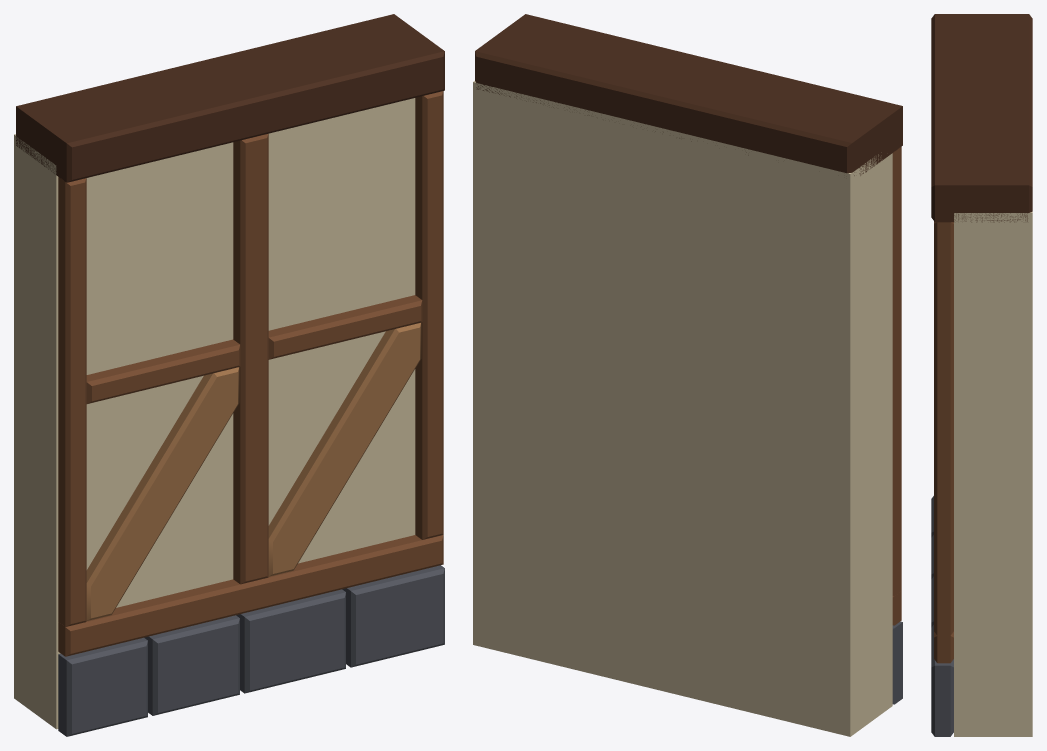
Rendered from WallStraight_04.glb.
The picture shows the model from 3 angles, left to right: view 1: azimuth 30°, elevation 25°; view 2: azimuth 150°, elevation 25°; view 3: azimuth 270°, elevation 25°; orthographic projection. The views are drawn at different scales.
Visible parts, largest first — view 1: WallStraight_04; view 2: WallStraight_04; view 3: WallStraight_04.
Boxes of the visible parts, x1,y1,x2,y2 form: WallStraight_04: (14,14,444,736); WallStraight_04: (473,14,902,736); WallStraight_04: (931,14,1032,736).
Bounding box in the file's own units: 8 × 12 × 2.
